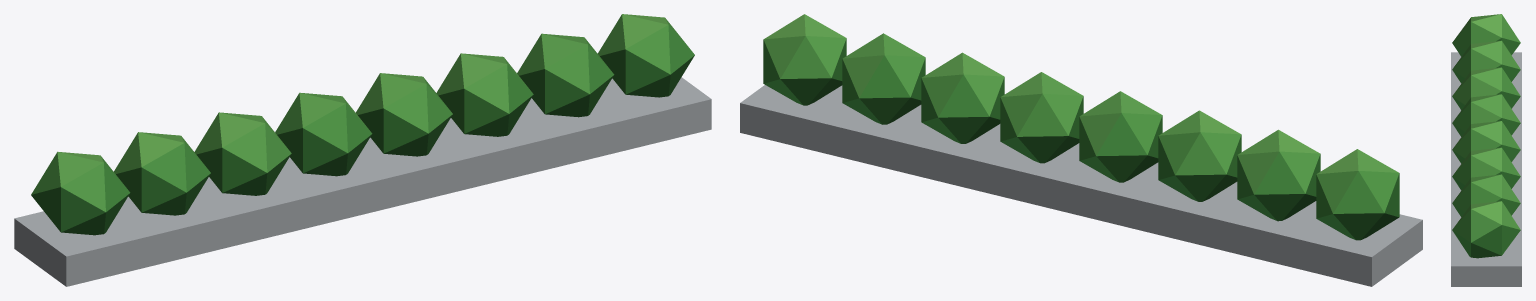
The model's file is Hedge_20.glb.
3 renders of one model, left to right at view 1: azimuth 30°, elevation 25°; view 2: azimuth 150°, elevation 25°; view 3: azimuth 270°, elevation 25°, orthographic. The views are drawn at different scales.
Visible parts, largest first — view 1: Hedge_20; view 2: Hedge_20; view 3: Hedge_20.
Part boxes in pixels (<box>): Hedge_20: <box>14,14,711,286</box>; Hedge_20: <box>740,14,1422,286</box>; Hedge_20: <box>1451,14,1521,286</box>.
Size of the model in its own units: 20 by 2.99 by 2.8.
1 material, 1 textured.
